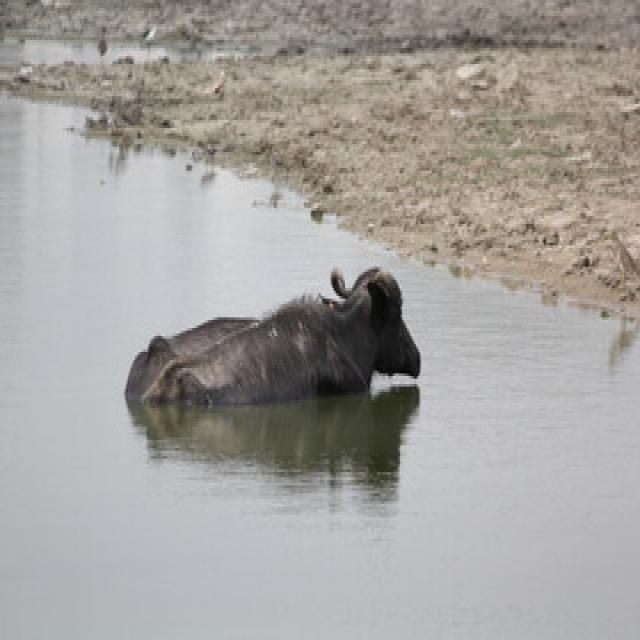Buffalo: (123, 261, 421, 411)
